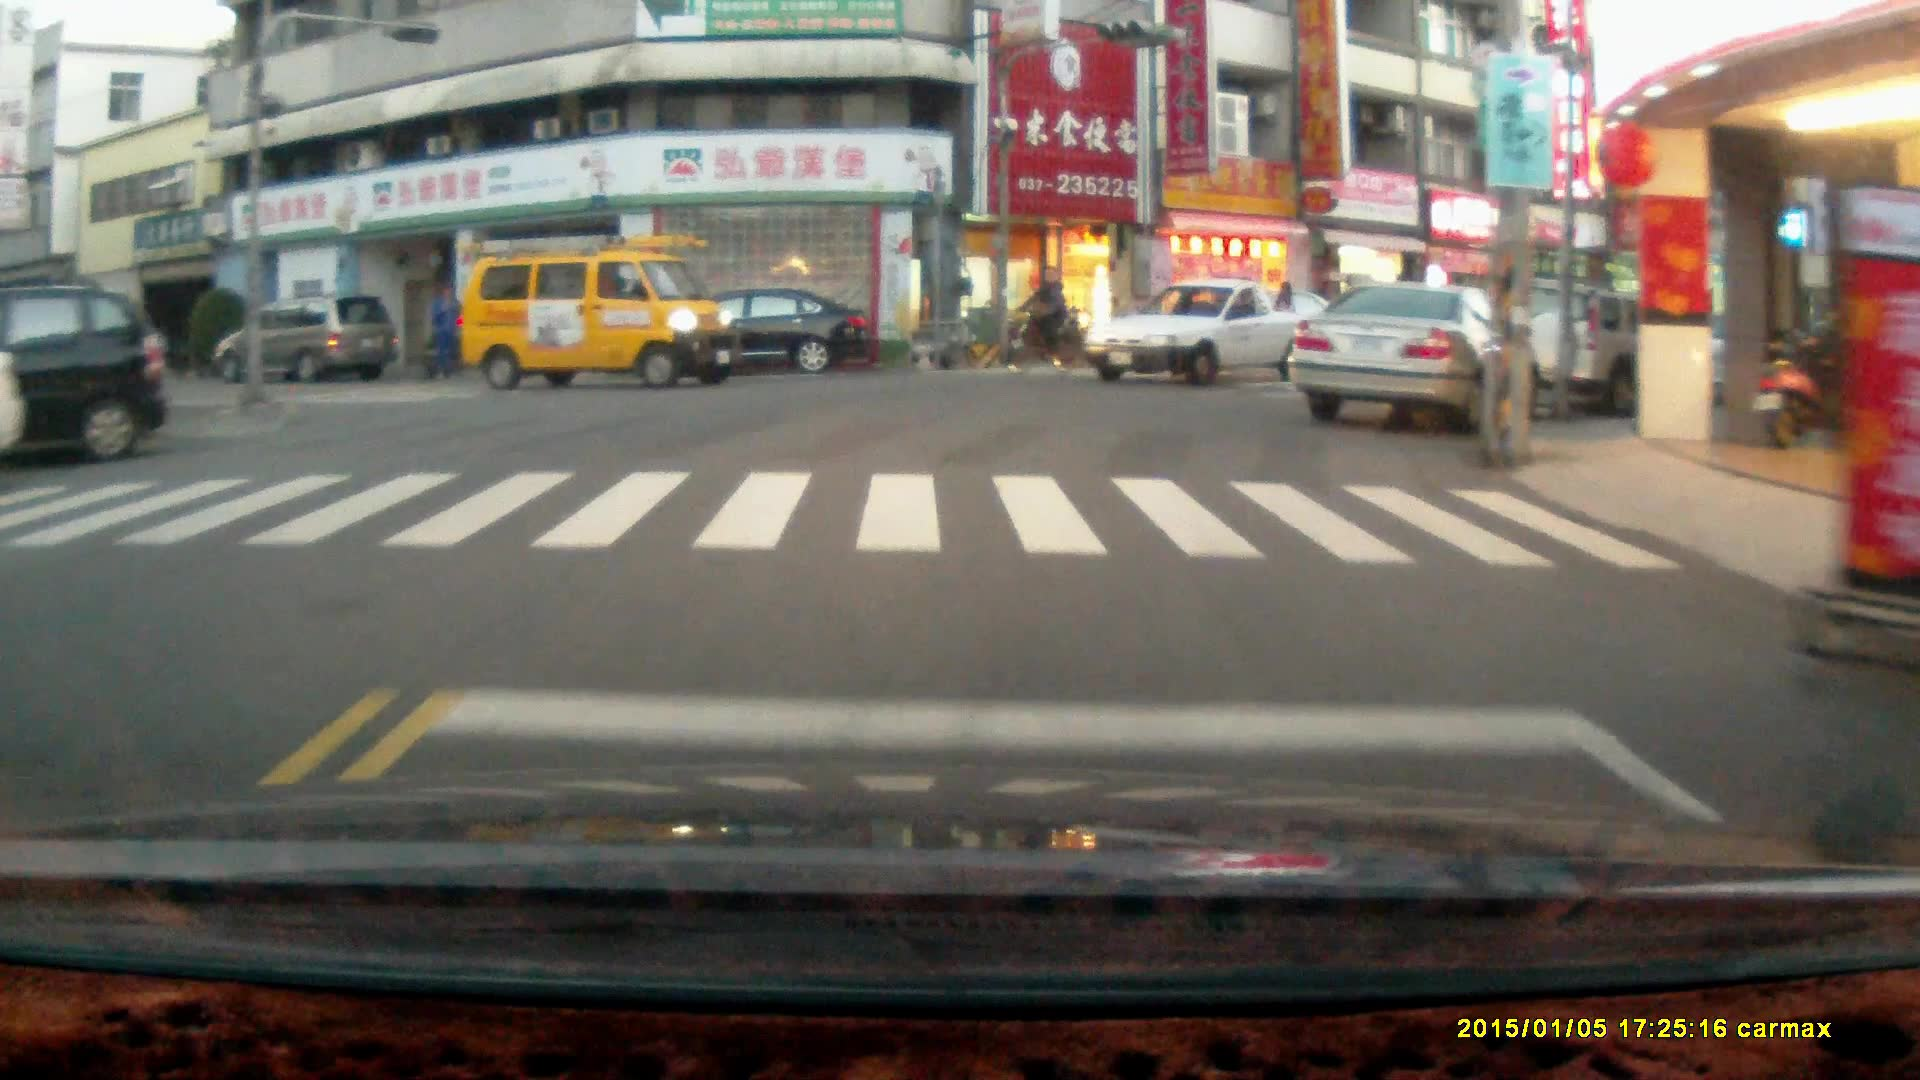pedestrian: (426, 281, 460, 375)
rider: (999, 262, 1078, 377)
vehicle: (461, 234, 731, 394), (1290, 280, 1548, 434), (1489, 284, 1733, 423), (2, 283, 170, 465), (1082, 274, 1334, 393), (652, 295, 874, 382), (213, 293, 402, 390)
